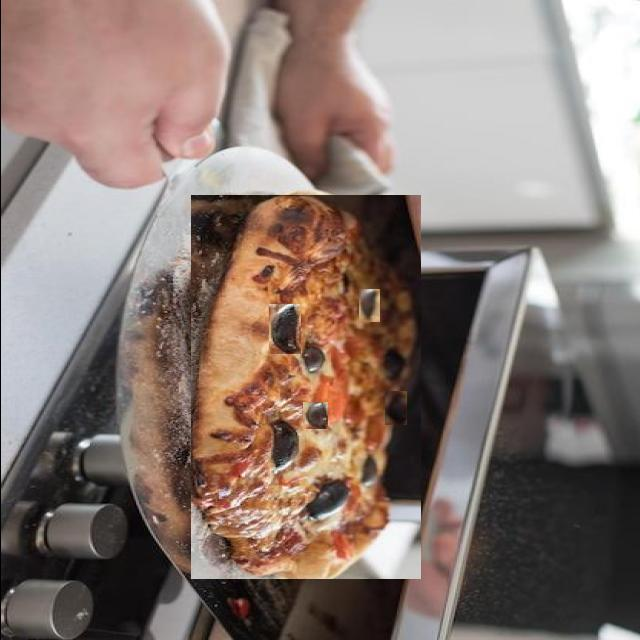olive: (310, 251, 354, 295), (268, 304, 300, 354), (384, 391, 406, 425), (356, 289, 378, 322), (302, 402, 327, 429)
pizza: (190, 195, 420, 579)
